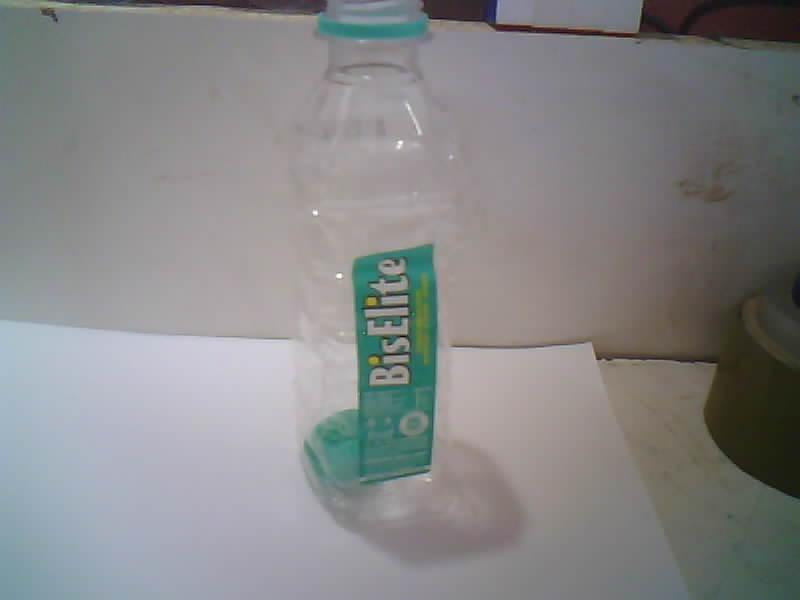non-biodegradable: (290, 0, 468, 523)
